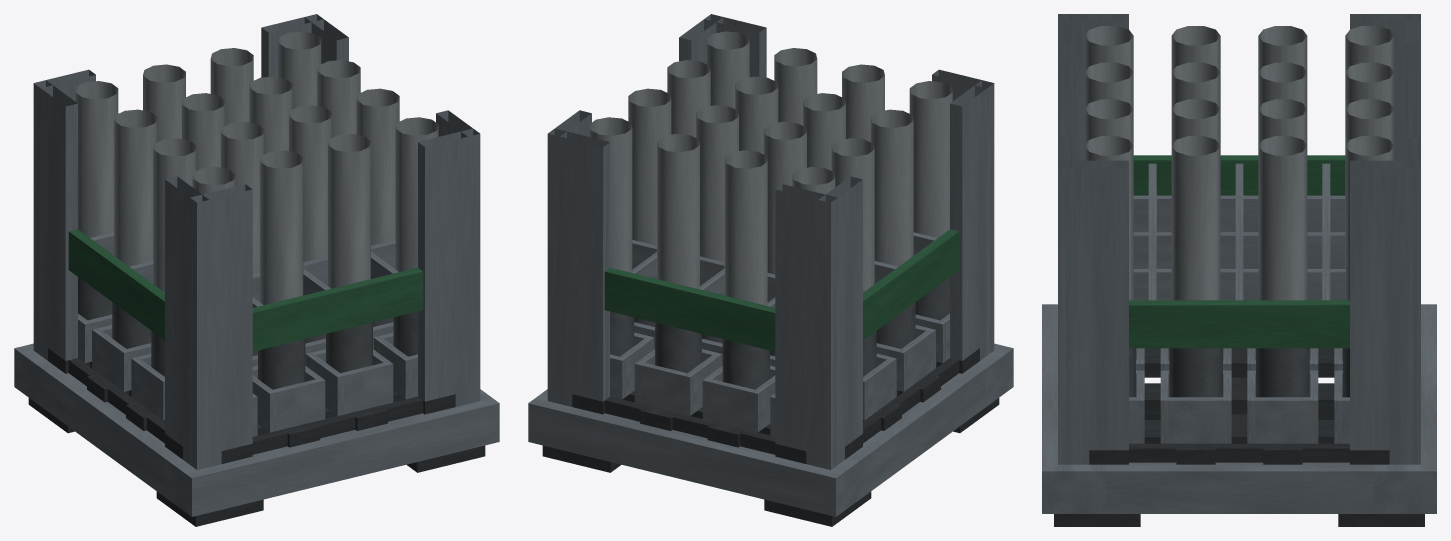
Rendered from tvs_loaded_bottom.obj.
The picture shows the model from 3 angles, left to right: view 1: azimuth 30°, elevation 25°; view 2: azimuth 150°, elevation 25°; view 3: azimuth 270°, elevation 25°; orthographic projection. The views are drawn at different scales.
Bounding box in the file's own units: 1 × 1 × 1.
